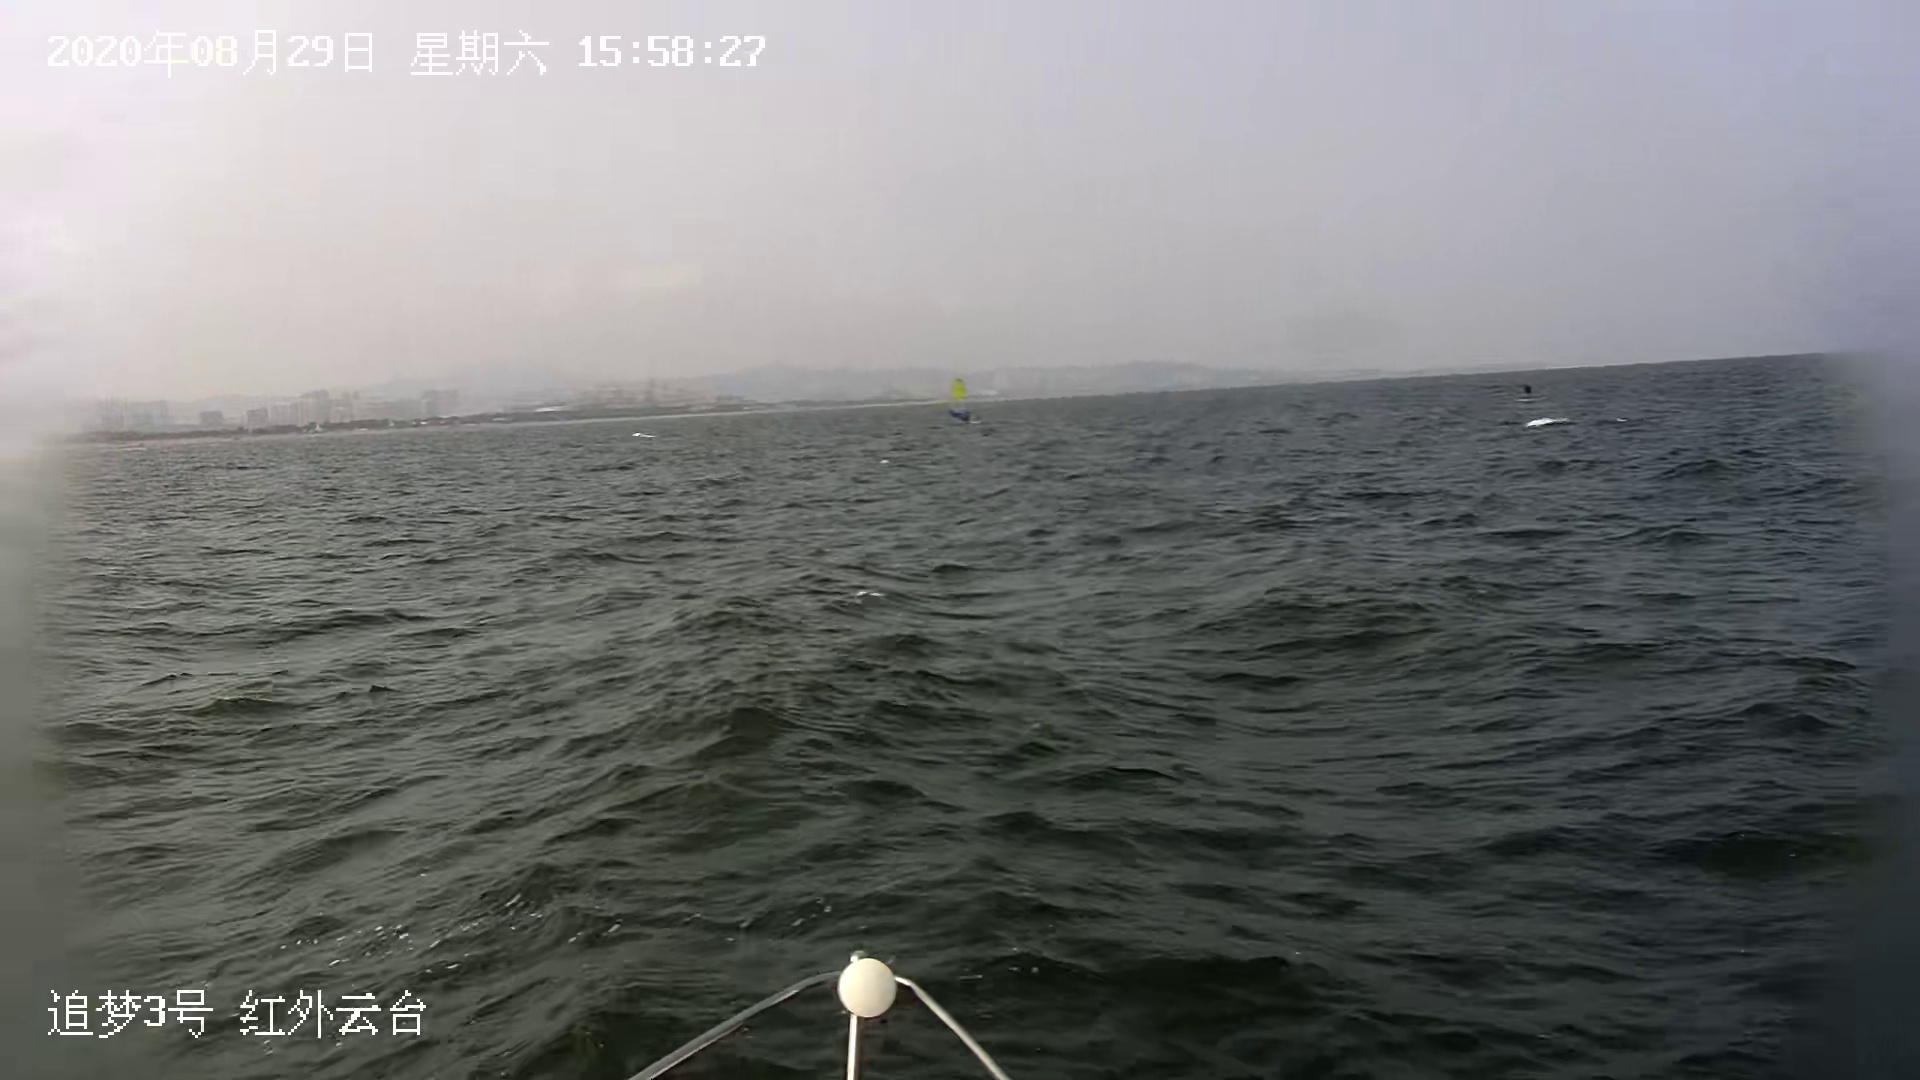barrier: (1510, 378, 1577, 434), (945, 372, 984, 427)
coast: (74, 357, 1352, 454)
